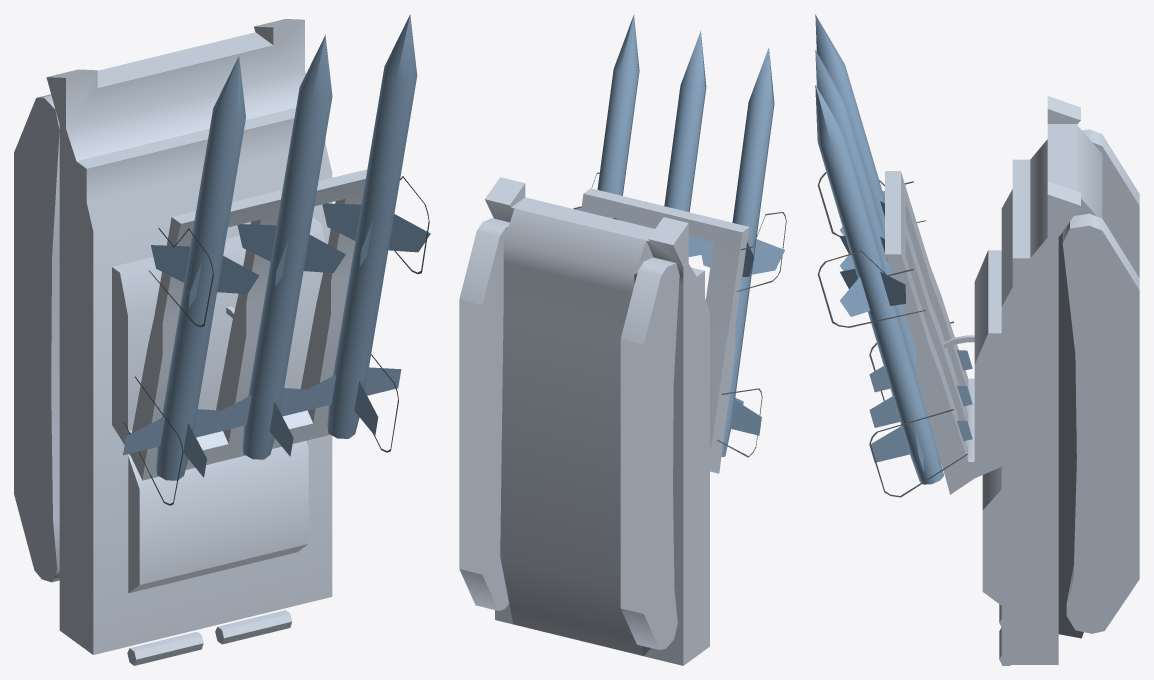
The picture shows the model from 3 angles, left to right: view 1: azimuth 30°, elevation 25°; view 2: azimuth 150°, elevation 25°; view 3: azimuth 270°, elevation 25°; orthographic projection. The views are drawn at different scales.
Visible parts, largest first — view 1: db_sa6_launcher_pl1_Geometry_0.001, db_sa6_launcher_p14133_Geometry_0.001, db_sa6_m3_p13945_Geometry_0.001, db_sa6_m2_p13881_Geometry_0.001, db_sa6_m1_p14009_Geometry_0.001, db_sa6_m1_p14028_Geometry_0.001, db_sa6_m2_p13900_Geometry_0.001, db_sa6_m3_p13964_Geometry_0.001, db_sa6_launcher_p14179_Geometry_0.001; view 2: db_sa6_launcher_pl1_Geometry_0.001, db_sa6_launcher_p14133_Geometry_0.001, db_sa6_m1_p14009_Geometry_0.001, db_sa6_m3_p13945_Geometry_0.001, db_sa6_m2_p13881_Geometry_0.001, db_sa6_m1_p14028_Geometry_0.001, db_sa6_launcher_p14179_Geometry_0.001; view 3: db_sa6_launcher_pl1_Geometry_0.001, db_sa6_launcher_p14133_Geometry_0.001, db_sa6_m3_p13945_Geometry_0.001, db_sa6_launcher_pl40_Geometry_0.001, db_sa6_m3_p13964_Geometry_0.001, db_sa6_m2_p13881_Geometry_0.001, db_sa6_m1_p14009_Geometry_0.001, db_sa6_launcher_p14179_Geometry_0.001, db_sa6_m2_p13900_Geometry_0.001, db_sa6_m1_p14028_Geometry_0.001.
Part boxes in pixels (x1,y1,x2,y2): db_sa6_launcher_pl1_Geometry_0.001: [46, 19, 367, 665]; db_sa6_launcher_p14133_Geometry_0.001: [14, 94, 59, 582]; db_sa6_m3_p13945_Geometry_0.001: [327, 14, 417, 438]; db_sa6_m2_p13881_Geometry_0.001: [242, 35, 332, 459]; db_sa6_m1_p14009_Geometry_0.001: [156, 56, 245, 480]; db_sa6_m1_p14028_Geometry_0.001: [123, 245, 259, 477]; db_sa6_m2_p13900_Geometry_0.001: [221, 224, 345, 456]; db_sa6_m3_p13964_Geometry_0.001: [294, 203, 430, 435]; db_sa6_launcher_p14179_Geometry_0.001: [124, 176, 429, 505]; db_sa6_launcher_pl1_Geometry_0.001: [485, 177, 749, 665]; db_sa6_launcher_p14133_Geometry_0.001: [459, 218, 679, 649]; db_sa6_m1_p14009_Geometry_0.001: [721, 47, 774, 456]; db_sa6_m3_p13945_Geometry_0.001: [597, 15, 639, 220]; db_sa6_m2_p13881_Geometry_0.001: [664, 30, 706, 212]; db_sa6_m1_p14028_Geometry_0.001: [699, 239, 784, 435]; db_sa6_launcher_p14179_Geometry_0.001: [573, 172, 786, 457]; db_sa6_launcher_pl1_Geometry_0.001: [885, 96, 1102, 665]; db_sa6_launcher_p14133_Geometry_0.001: [1062, 129, 1139, 633]; db_sa6_m3_p13945_Geometry_0.001: [815, 85, 943, 484]; db_sa6_launcher_pl40_Geometry_0.001: [1058, 232, 1083, 638]; db_sa6_m3_p13964_Geometry_0.001: [839, 261, 972, 471]; db_sa6_m2_p13881_Geometry_0.001: [815, 50, 915, 373]; db_sa6_m1_p14009_Geometry_0.001: [815, 14, 884, 226]; db_sa6_launcher_p14179_Geometry_0.001: [817, 172, 967, 497]; db_sa6_m2_p13900_Geometry_0.001: [840, 226, 972, 427]; db_sa6_m1_p14028_Geometry_0.001: [840, 185, 972, 392].
Size of the model in its own units: 3.39 by 8.14 by 4.09.
